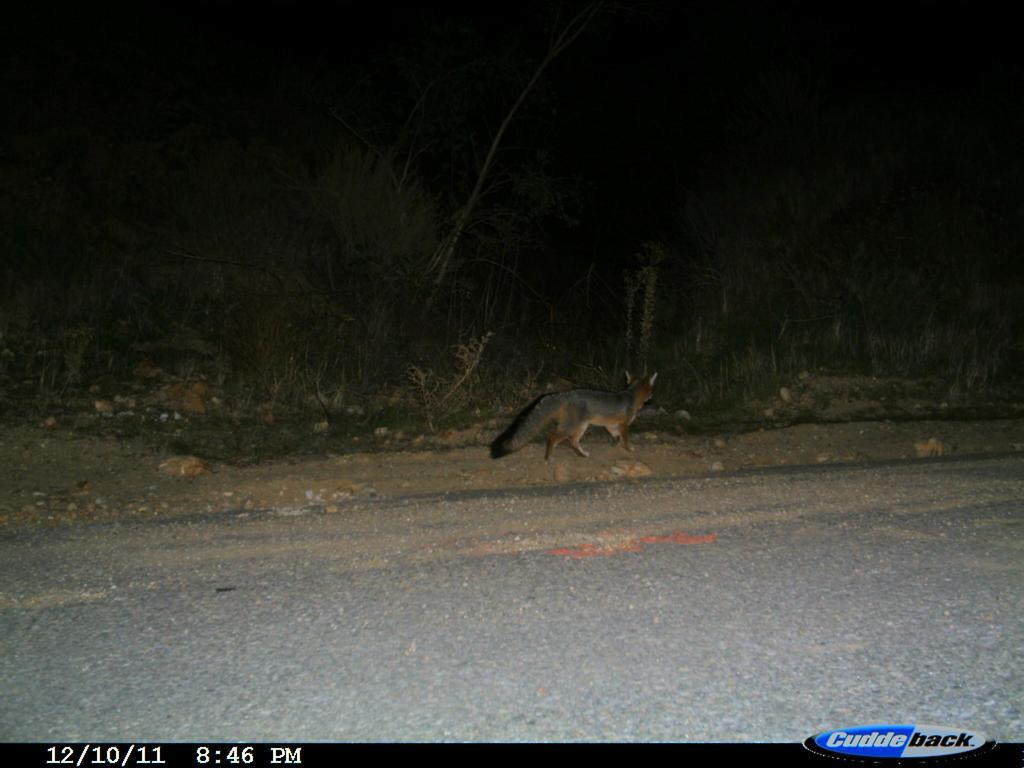fox: (482, 367, 671, 472)
